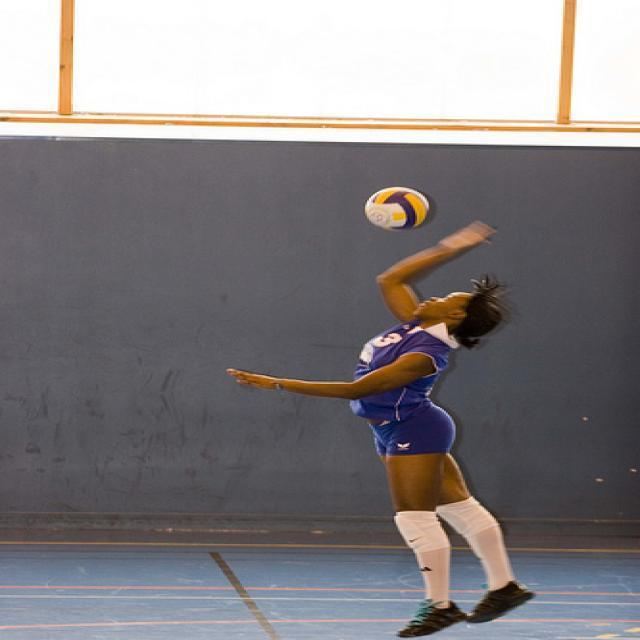volleyball: (364, 187, 429, 230)
